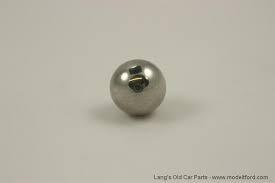steelball: (105, 56, 171, 123)
